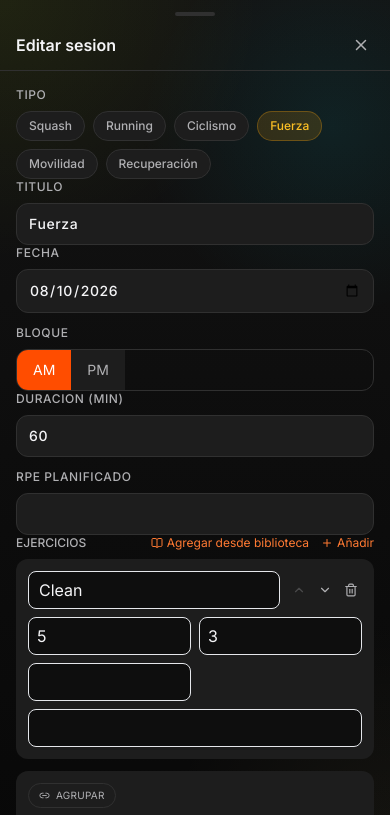
Test: SessionForm — grupos › editar los sets del lider actualiza a sus miembros
Click the button with aria-label "Agrupar ejercicio 2 con el anterior".
click(72, 796)  # box [28,783,116,808]
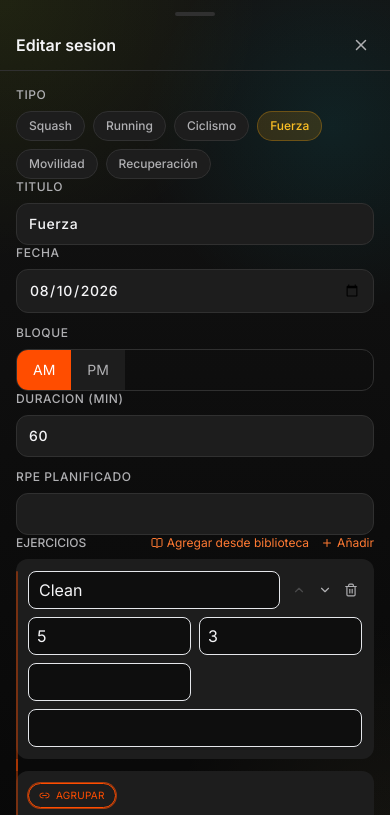
Replace the text in the number field named "Series 1" with "6" at (110, 636), box [28,617,191,655]
(page scrolled)
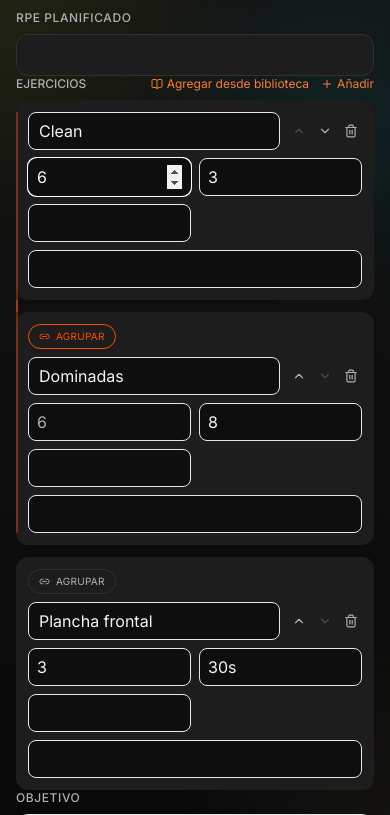
Result: the number field named "Series 2" holds "6" at [28,403,191,441]
